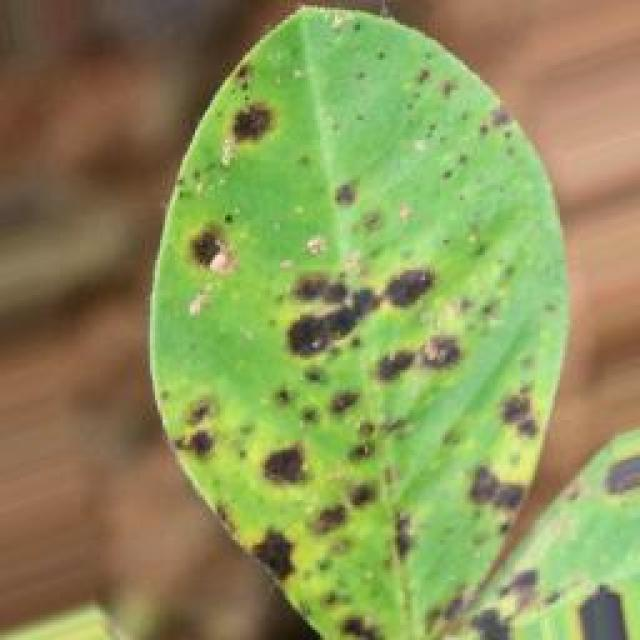Yellowish: (130, 39, 567, 616)
